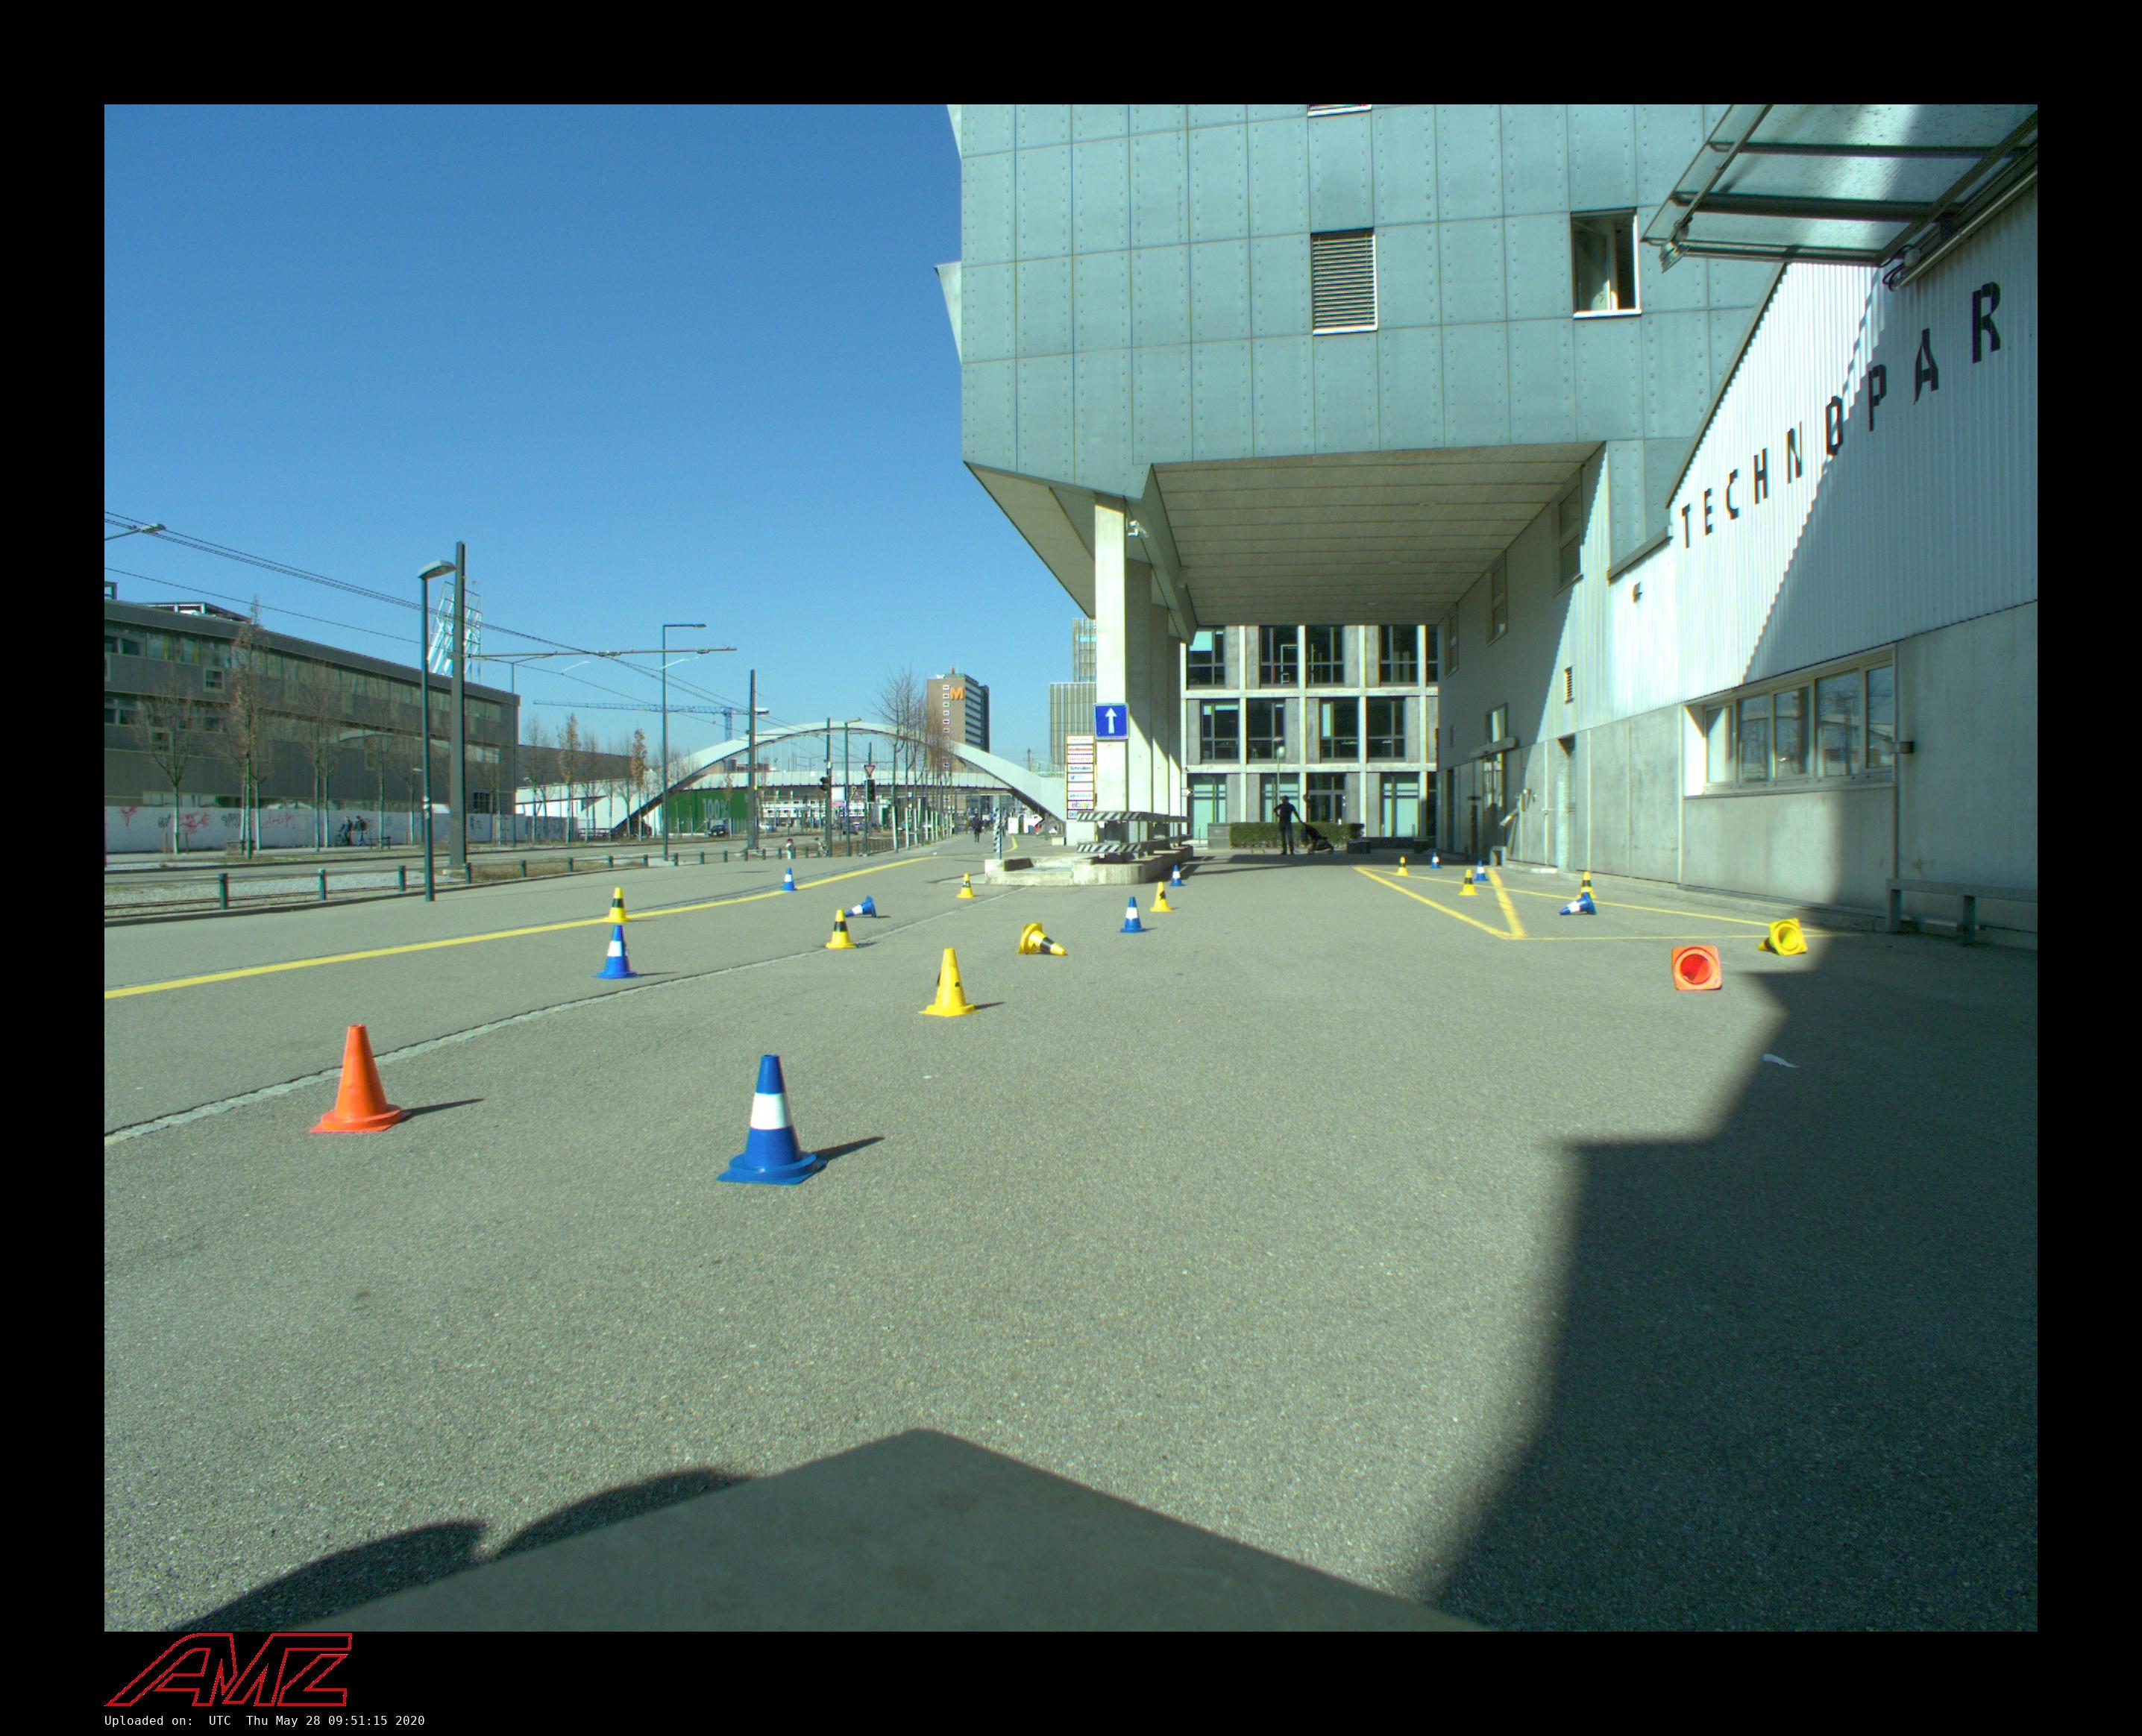blue_cone: (718, 1054, 827, 1185), (594, 925, 641, 980), (1120, 896, 1146, 934), (1559, 891, 1596, 916), (845, 895, 877, 918), (780, 868, 797, 891), (1169, 864, 1185, 887), (1474, 861, 1488, 882), (1430, 852, 1442, 868)
orange_cone: (312, 1024, 411, 1132), (1671, 944, 1722, 990)
yellow_cone: (918, 948, 982, 1017), (1758, 918, 1807, 955), (1017, 923, 1067, 957), (826, 909, 856, 948), (604, 887, 631, 923), (1152, 882, 1173, 911), (1458, 868, 1479, 896), (1575, 872, 1596, 898), (958, 873, 976, 898), (1396, 856, 1409, 877)
